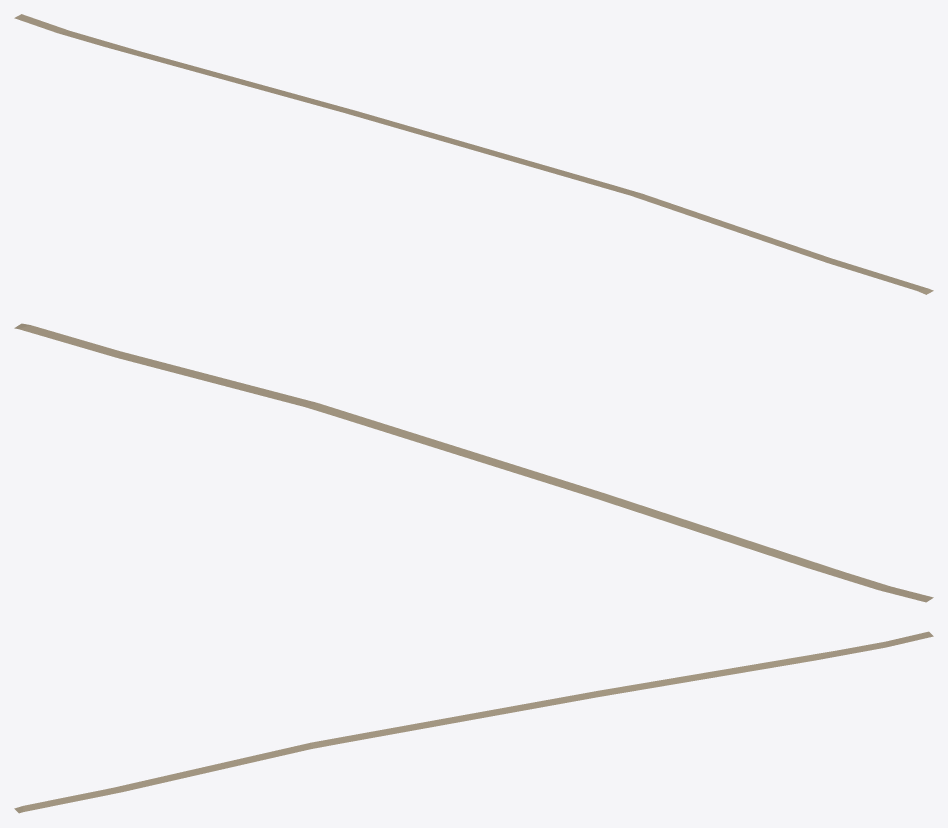
The model's file is farm_3_14_track.glb.
3 renders of one model, top to bottom at view 1: azimuth 30°, elevation 25°; view 2: azimuth 210°, elevation 25°; view 3: azimuth 270°, elevation 25°, orthographic. The views are drawn at different scales.
Visible parts, largest first — view 1: geometry_0; view 2: geometry_0; view 3: geometry_0.
Part boxes in pixels (left/top/right/bottom): geometry_0: left=14, top=14, right=933, bottom=294; geometry_0: left=14, top=323, right=933, bottom=602; geometry_0: left=14, top=631, right=933, bottom=813.
Bounding box in the file's own units: 119 × 3.08 × 256.
